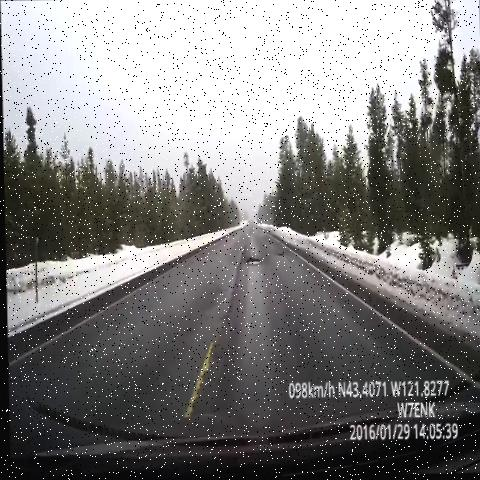pothole: (240, 247, 267, 274), (269, 245, 286, 266)
